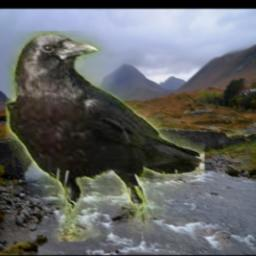Crow: (6, 32, 205, 243)
